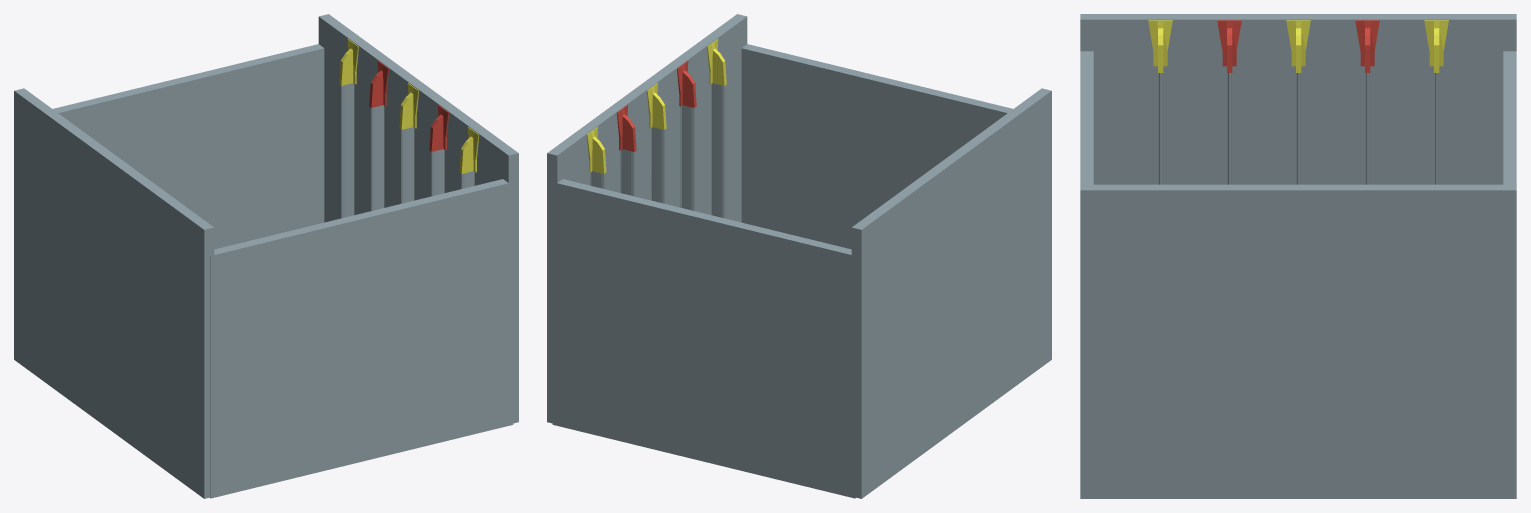
Rendered from cell_guide.fbx.
3 renders of one model, left to right at view 1: azimuth 30°, elevation 25°; view 2: azimuth 150°, elevation 25°; view 3: azimuth 270°, elevation 25°, orthographic. The views are drawn at different scales.
Visible parts, largest first — view 1: Cube; view 2: Cube; view 3: Cube.
Boxes of the visible parts, left/top/right/bottom form: Cube: left=14, top=14, right=518, bottom=498; Cube: left=547, top=14, right=1051, bottom=498; Cube: left=1080, top=14, right=1516, bottom=498.
Size of the model in its own units: 6273 by 5150 by 6569.
